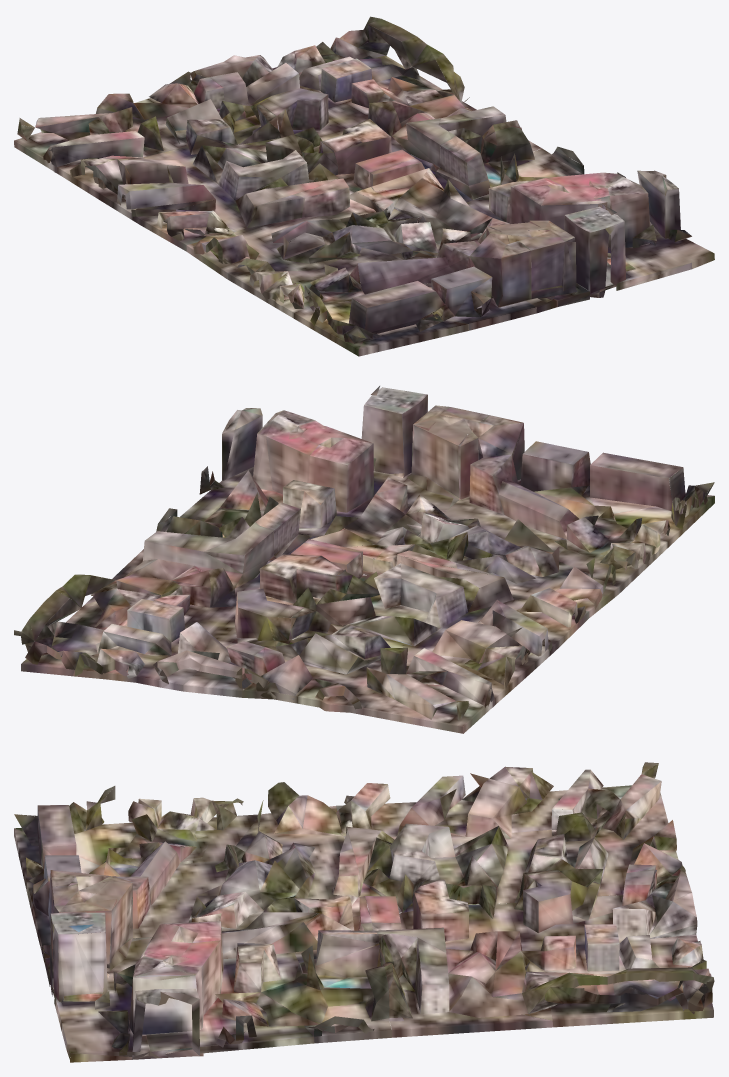
The picture shows the model from 3 angles, top to bottom: view 1: azimuth 30°, elevation 25°; view 2: azimuth 150°, elevation 25°; view 3: azimuth 270°, elevation 25°; orthographic projection. The views are drawn at different scales.
Visible parts, largest first — view 1: Mesh_0; view 2: Mesh_0; view 3: Mesh_0.
Part boxes in pixels (x1,y1,x2,y2): Mesh_0: (14,16,714,356); Mesh_0: (14,386,714,733); Mesh_0: (14,762,714,1062).
Size of the model in its own units: 266 by 50.7 by 330.
2 materials, 2 textured.
